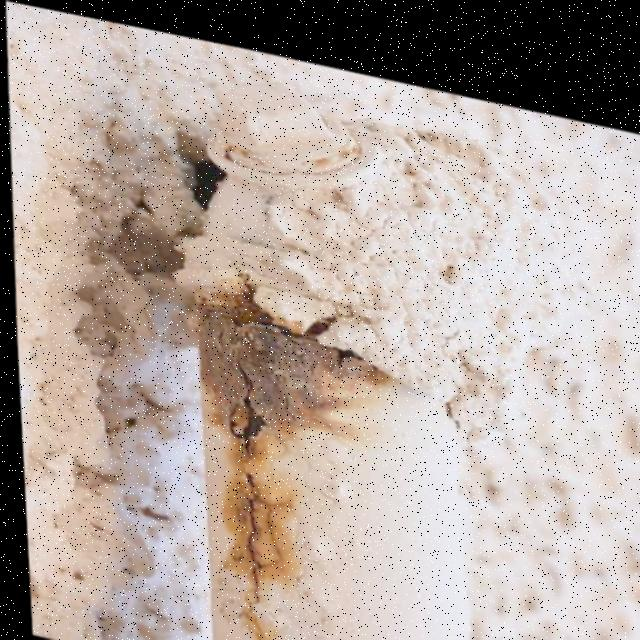crack: (221, 455, 275, 599)
hole: (218, 389, 274, 447), (222, 283, 282, 334), (320, 330, 365, 365), (299, 296, 334, 334)
